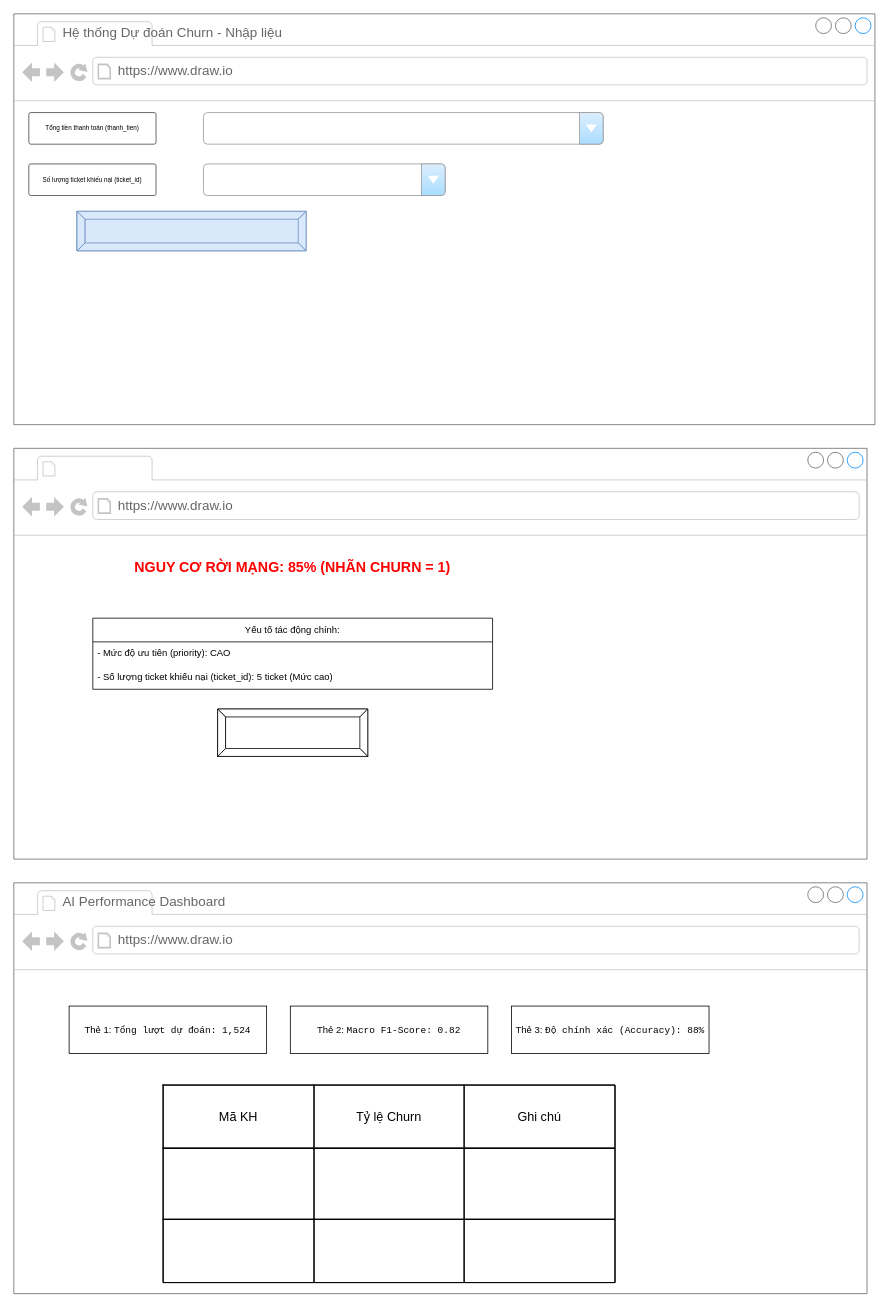
The diagram is 889 pixels wide and 1307 high, and some of its shapes have lost their labels. Here are the shapes that lost their labels. From the top down, the centre of each, then its label:
At (x=403, y=128): "Mức độ ưu tiên (priority) - Chọn: CAO / TRUNG BÌNH / THẤP".
At (x=324, y=179): "Trong hạn bảo hành (is_warranty)".
At (x=191, y=231): "Phân tích nguy cơ rời mạng".
At (x=124, y=467): "Kết quả dự đoán AI".
At (x=292, y=732): "Lưu lịch sử dự đoán".
